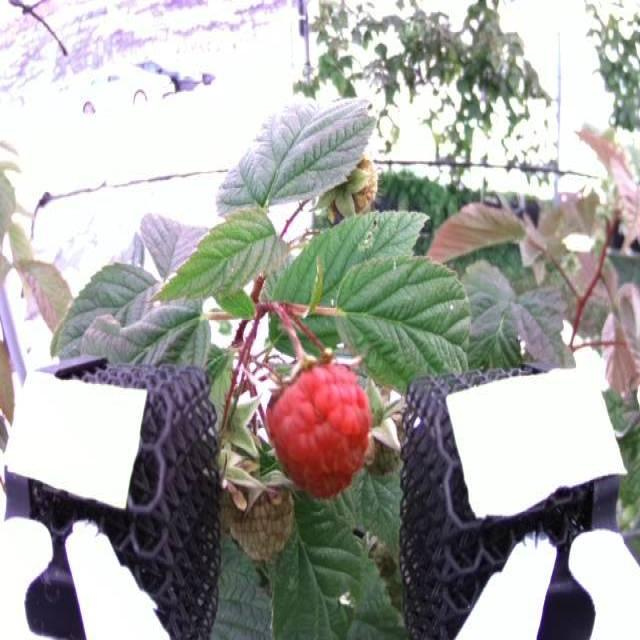Riped berries: (264, 356, 373, 499)
